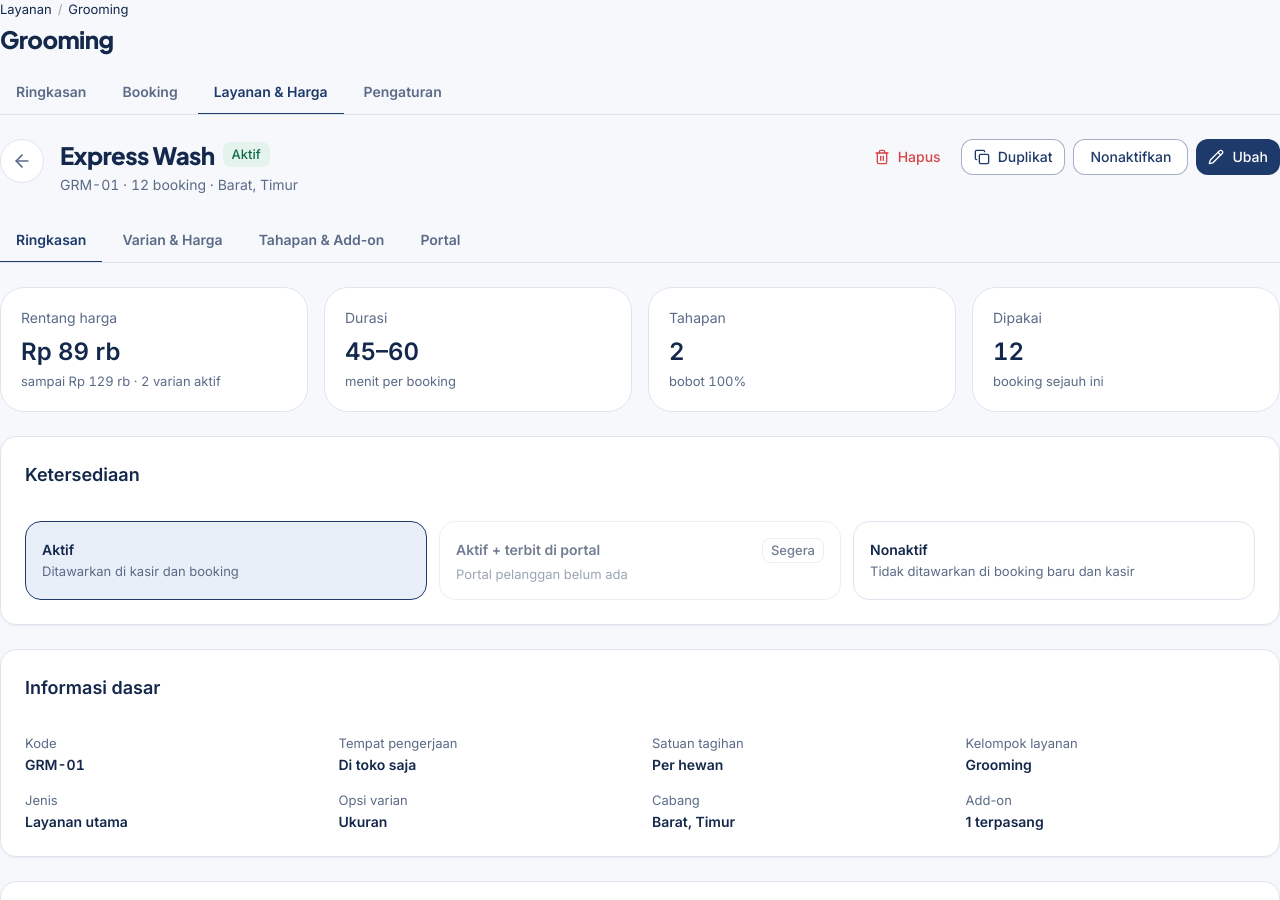
Scenario: GroomingServiceDetailScreen › lists the tahapan with their weights and the add-ons by name
The width and height of the screenshot is (1280, 900).
Click the tab "Tahapan & Add-on": click(322, 241) [243, 219, 400, 263]
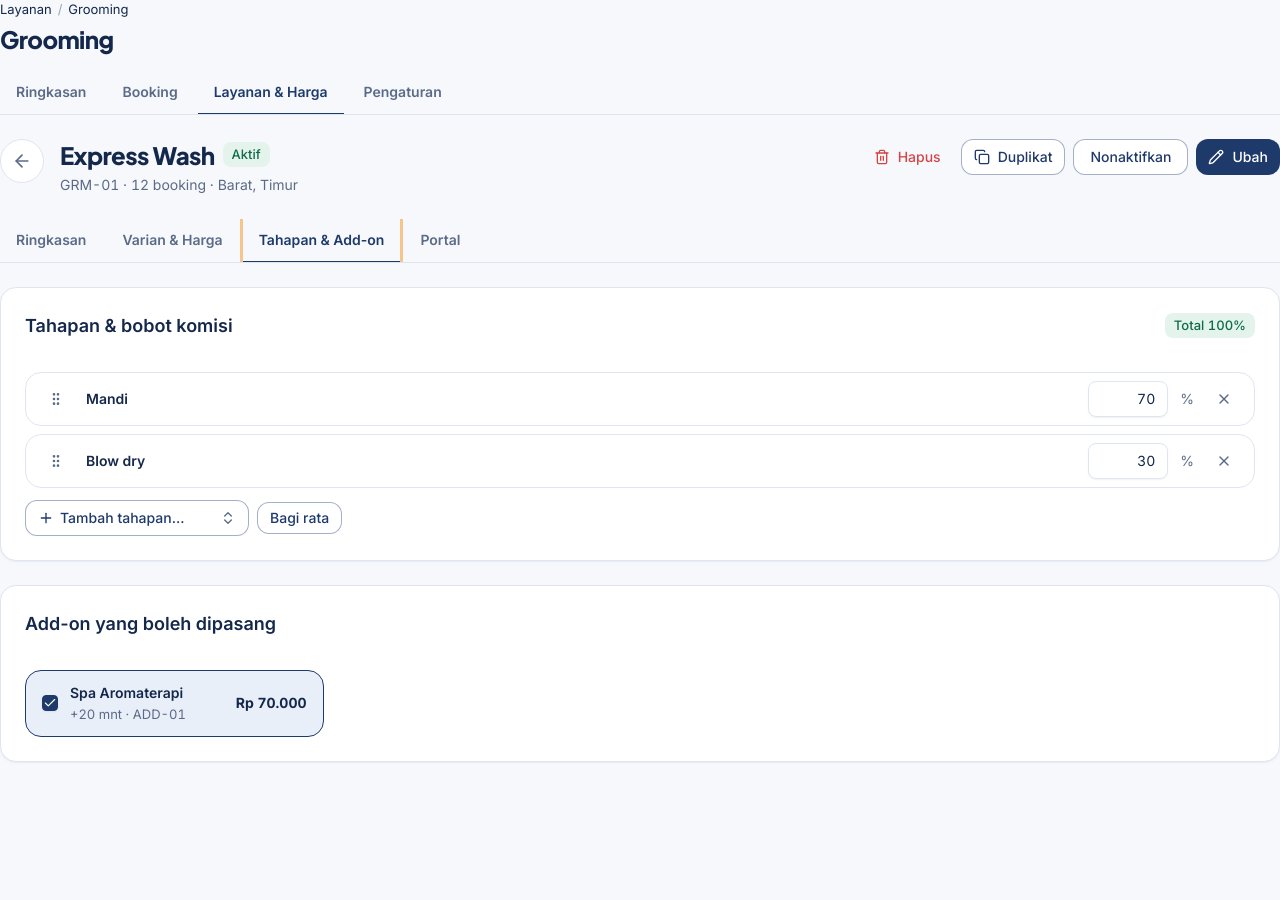
Check: the field named "Bobot Mandi (%)" holds "70", box [1088, 381, 1168, 417]
Check: the field named "Bobot Blow dry (%)" holds "30", box [1088, 443, 1168, 479]
Check: the text "Total 100%" is shown, box [1165, 313, 1255, 338]
